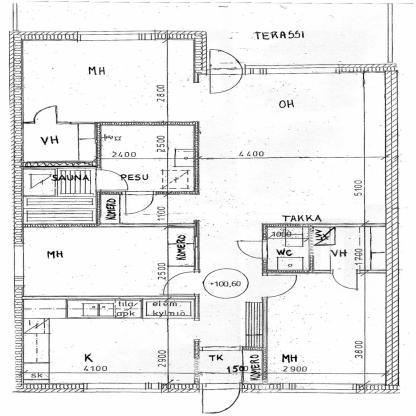bathroom: (99, 123, 196, 194), (262, 225, 392, 272)
door: (197, 252, 416, 381), (204, 48, 246, 97), (198, 382, 247, 416), (256, 272, 304, 300), (160, 270, 206, 298), (90, 166, 134, 194), (121, 192, 162, 217), (30, 103, 66, 126), (328, 268, 362, 292), (234, 239, 270, 260)
perimeter: (12, 34, 398, 390)
window: (247, 64, 354, 79), (68, 27, 157, 44), (278, 380, 369, 396), (77, 380, 168, 394), (5, 244, 29, 283)
